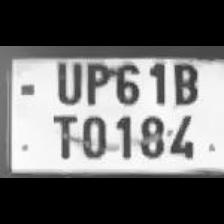0: (77, 110, 109, 158)
1: (142, 58, 170, 106), (109, 110, 135, 160)
4: (166, 109, 196, 159)
6: (109, 61, 141, 105)
8: (136, 110, 166, 160)
B: (166, 58, 200, 104)
P: (82, 58, 110, 108)
T: (47, 109, 79, 161)
U: (51, 56, 83, 104)
